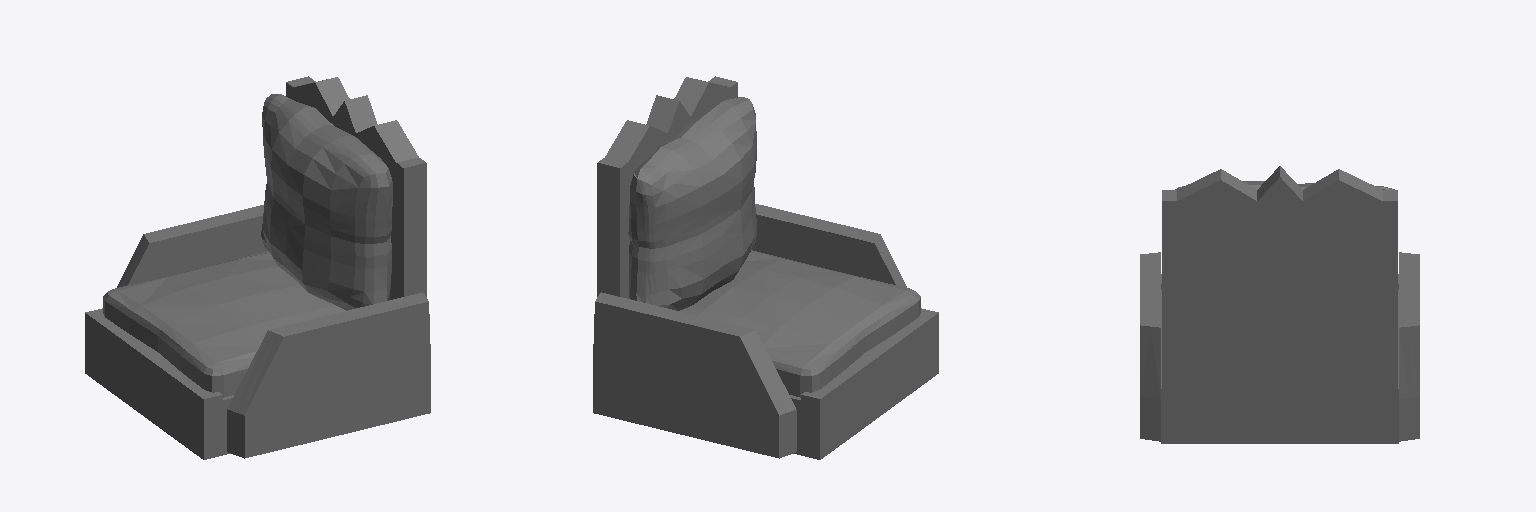
The model's file is Chair.obj.
The picture shows the model from 3 angles: view 1: azimuth 30°, elevation 25°; view 2: azimuth 150°, elevation 25°; view 3: azimuth 270°, elevation 25°; orthographic projection.
Parts seen in each view (by area): view 1: pCube33; view 2: pCube33; view 3: pCube33.
Boxes of the visible parts, x1,y1,x2,y2 form: pCube33: [85, 76, 430, 459]; pCube33: [593, 76, 938, 459]; pCube33: [1140, 166, 1419, 443].
Size of the model in its own units: 119 by 136 by 130.